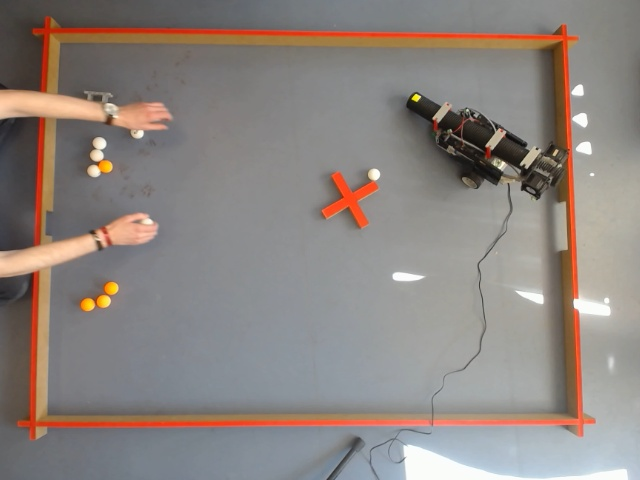orange: (94, 292, 112, 309), (103, 281, 119, 296), (79, 297, 95, 312), (97, 161, 113, 175), (99, 159, 113, 174)
robot: (393, 102, 571, 204)
white: (603, 468, 630, 480), (366, 167, 382, 183), (89, 147, 104, 163), (92, 136, 107, 151), (129, 128, 146, 141), (86, 164, 100, 178), (572, 83, 584, 97)
